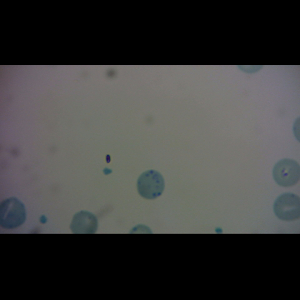aggregate reticulocyte: (137, 170, 165, 200)
erythrocyte: (273, 159, 300, 188)
punctate reticulocyte: (1, 196, 27, 229), (273, 192, 300, 222), (70, 210, 99, 234)
